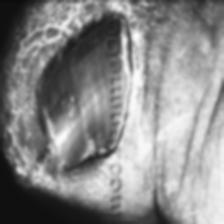Toxin: (23, 33, 97, 174)
